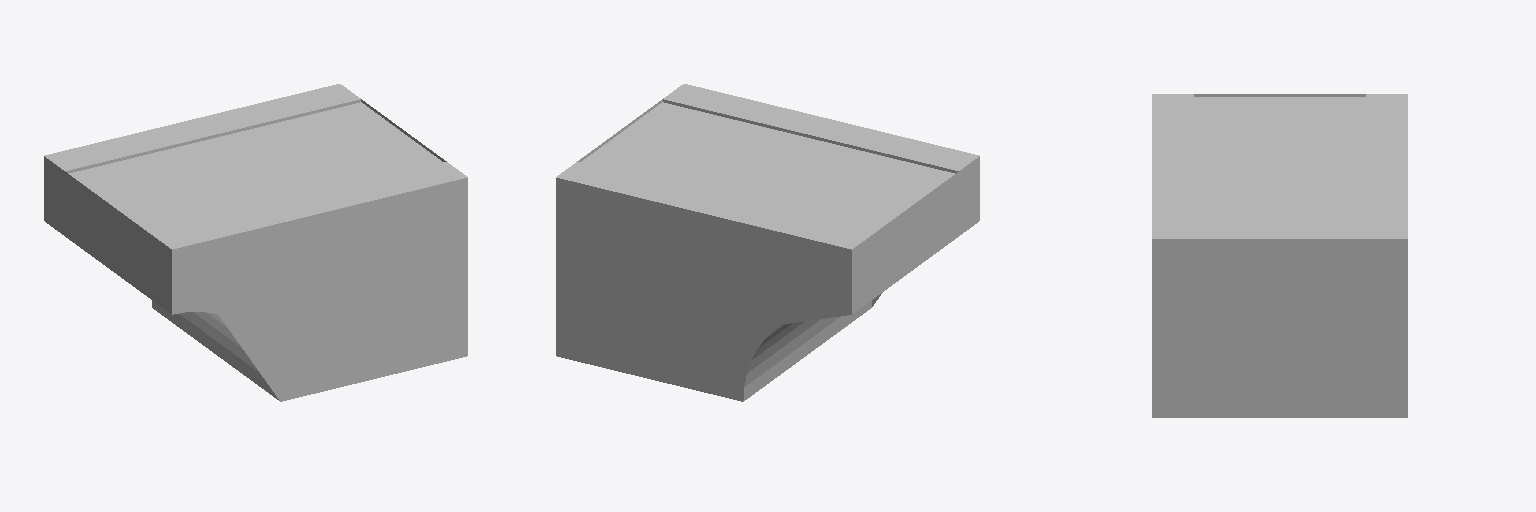
File: roadTile_212.obj
The picture shows the model from 3 angles: view 1: azimuth 30°, elevation 25°; view 2: azimuth 150°, elevation 25°; view 3: azimuth 270°, elevation 25°; orthographic projection.
Parts seen in each view (by area): view 1: Mesh1 Group1 Model; view 2: Mesh1 Group1 Model; view 3: Mesh1 Group1 Model.
Part boxes in pixels (x1,y1,x2,y2): Mesh1 Group1 Model: (44,84,467,401); Mesh1 Group1 Model: (556,84,979,401); Mesh1 Group1 Model: (1152,94,1407,417).
Size of the model in its own units: 3 by 1.73 by 2.25.